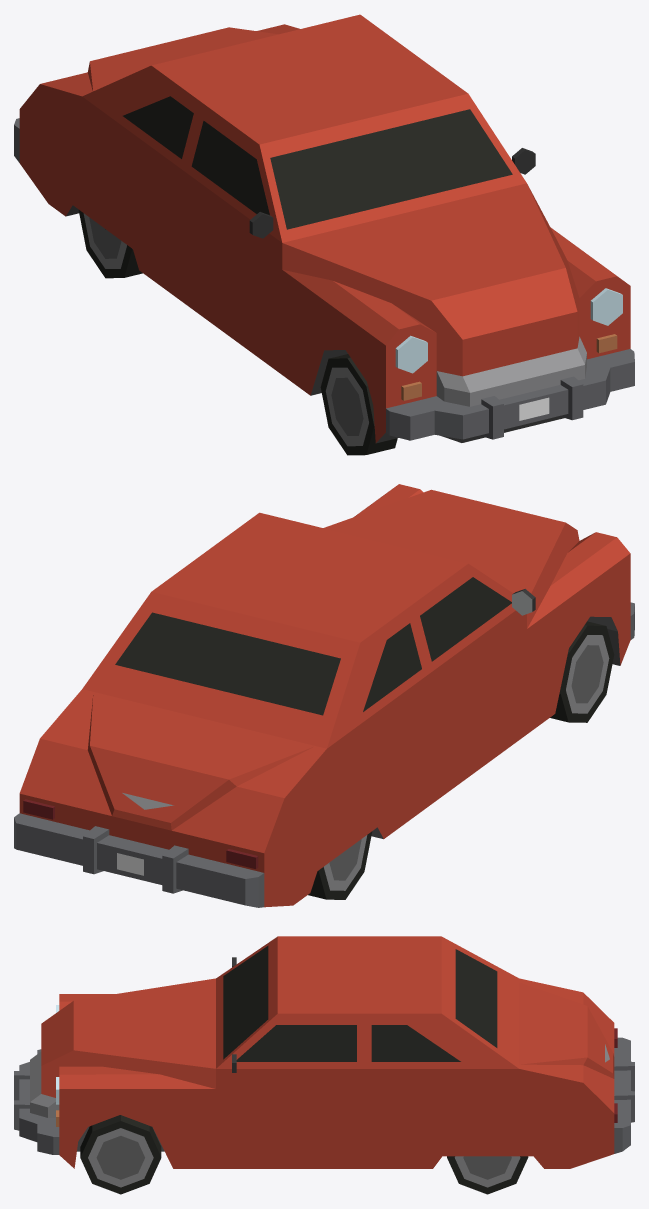
Rendered from Veh_Retro_Car_01_Red.obj.
The picture shows the model from 3 angles, top to bottom: view 1: azimuth 30°, elevation 25°; view 2: azimuth 150°, elevation 25°; view 3: azimuth 270°, elevation 25°; orthographic projection. The views are drawn at different scales.
Size of the model in its own units: 1.1 by 0.863 by 2.77.
